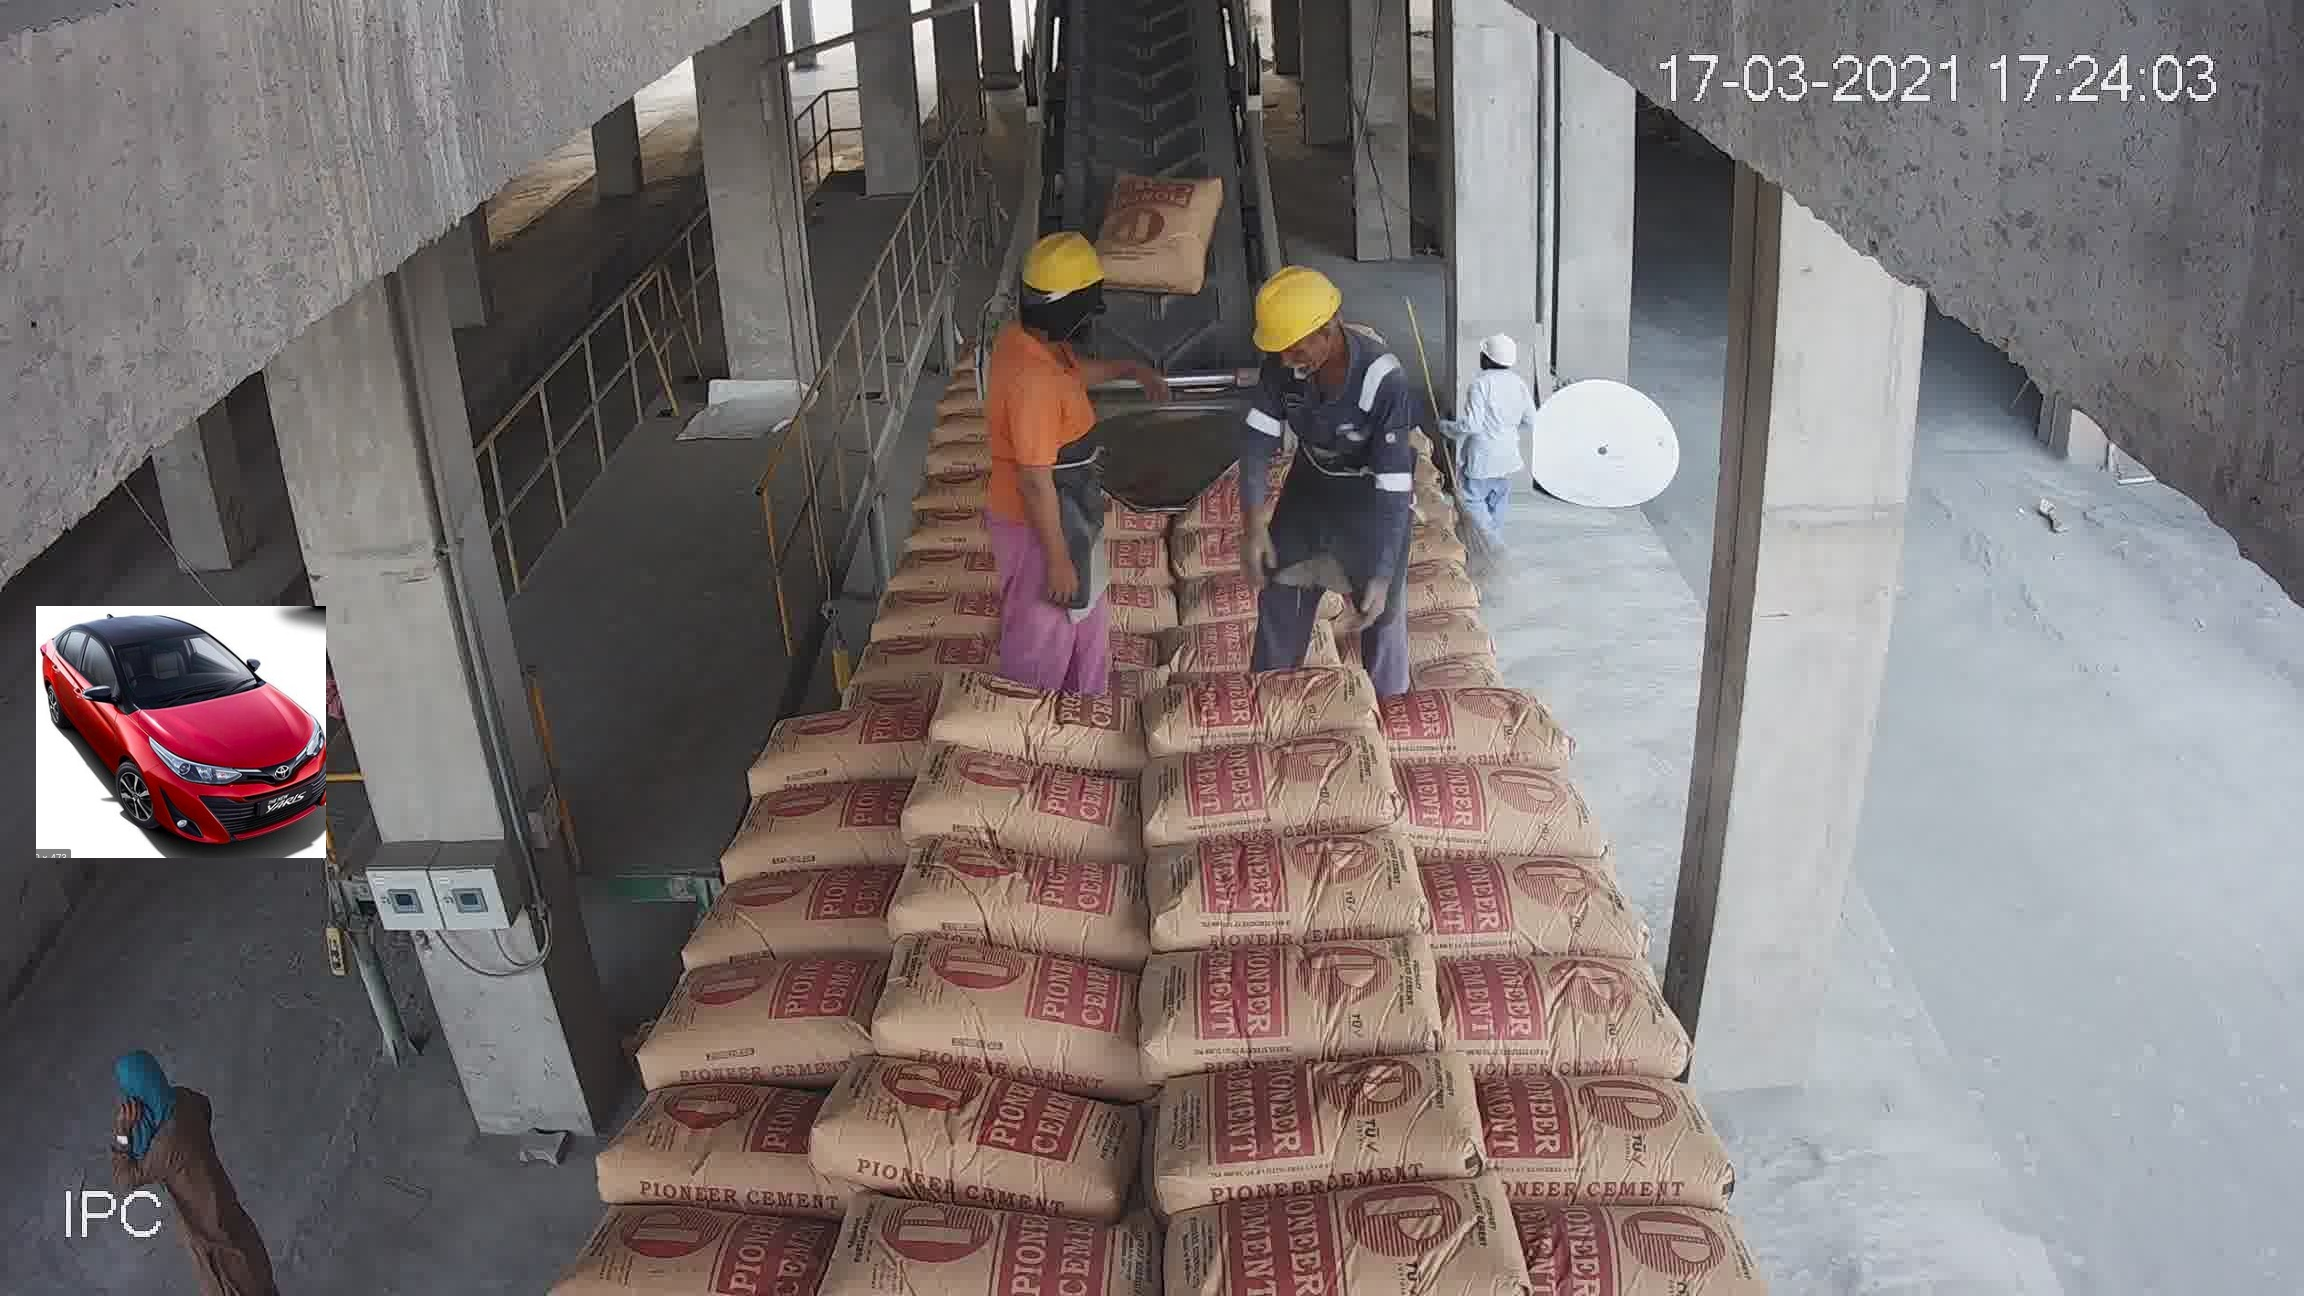bag: (1098, 8, 1199, 87)
bag_h: (1188, 1036, 1483, 1195), (807, 1074, 1127, 1212), (1124, 932, 1438, 1070), (1173, 1179, 1532, 1296), (1119, 831, 1445, 948), (771, 1196, 1124, 1296), (1400, 821, 1622, 961), (1492, 1060, 1726, 1192), (1119, 737, 1385, 851), (1449, 926, 1669, 1063), (880, 951, 1131, 1071), (1506, 1176, 1764, 1282), (641, 953, 859, 1067), (916, 760, 1173, 855), (1389, 744, 1603, 855), (896, 853, 1128, 948), (1147, 582, 1377, 677), (548, 1204, 783, 1296), (1165, 657, 1412, 744), (1165, 527, 1385, 623), (684, 859, 885, 964), (1364, 684, 1560, 790), (606, 1079, 801, 1182), (1135, 479, 1336, 567), (940, 673, 1144, 758), (725, 783, 923, 869), (744, 704, 921, 799), (954, 608, 1173, 684), (953, 555, 1149, 627), (780, 635, 961, 711), (801, 573, 975, 649), (1374, 627, 1546, 701), (1320, 456, 1502, 522), (1339, 562, 1532, 622), (984, 508, 1135, 570), (1294, 399, 1435, 464), (1359, 514, 1505, 576), (821, 487, 972, 543), (1010, 465, 1174, 511), (843, 525, 961, 589), (1027, 434, 1169, 483), (1280, 340, 1393, 392), (1285, 372, 1427, 413), (1044, 388, 1158, 437), (1287, 326, 1397, 358)
belt: (1029, 19, 1272, 353)
